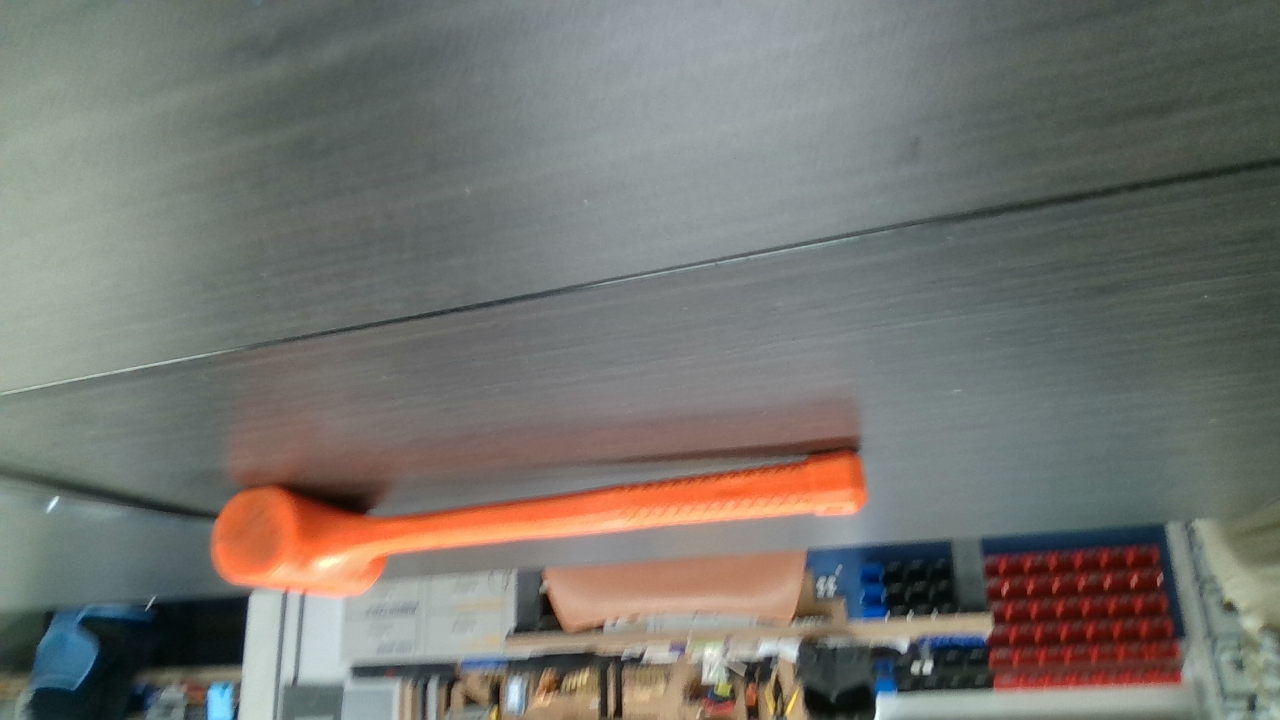Orange Hammer: (215, 442, 868, 595)
